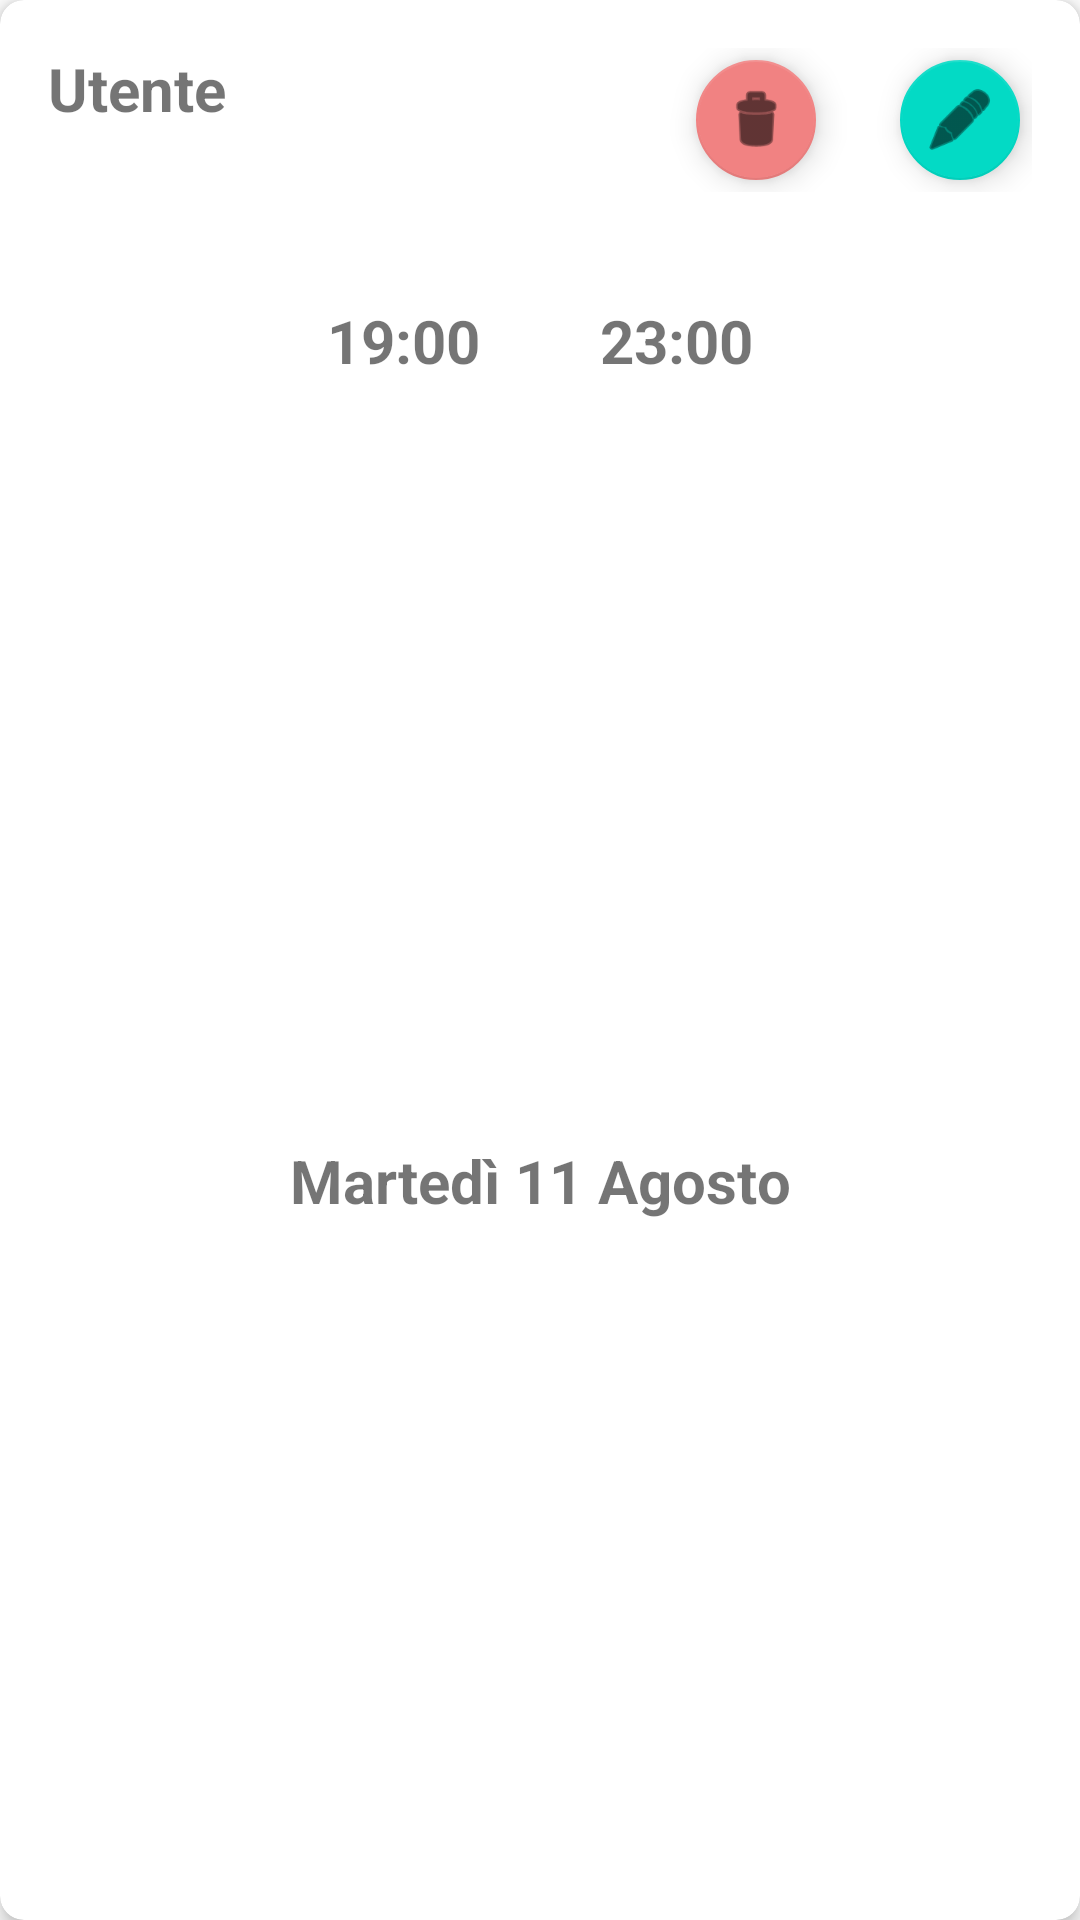

Screen size 1080×1920. Icon name, then its center in pixels as [x,y]:
Elimina: [756,120]
Modifica: [961,120]
